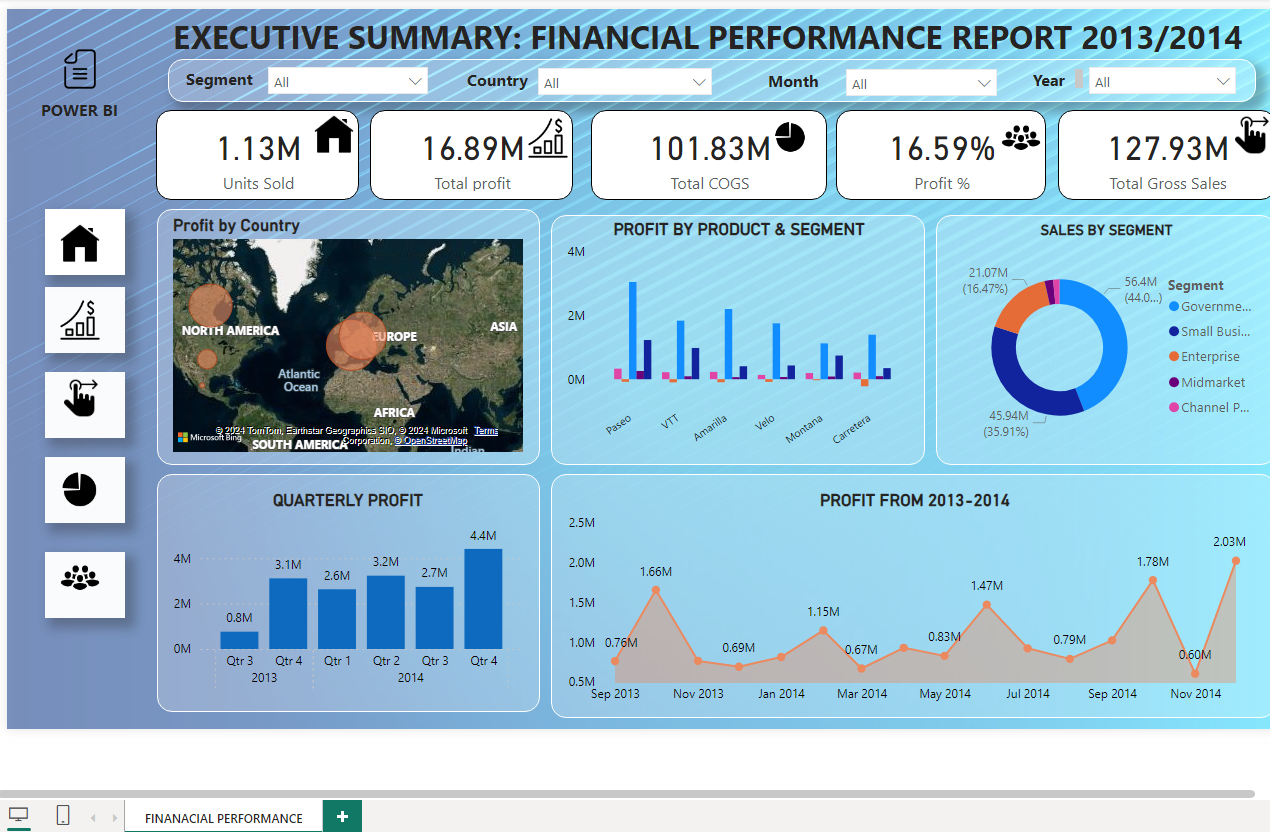

The page's visual inventory and layout, read from the dashboard file:
{"tool":"powerbi","page":{"name":"FINANACIAL PERFORMANCE","canvas":[1280,720],"ordinal":0},"visuals":[{"type":"shape","box":[37.5,542.7,80,66.2],"z":0},{"type":"shape","box":[37.5,200.2,80,66.2],"z":1000},{"type":"shape","box":[37.5,277.7,80,66.2],"z":2000},{"type":"shape","box":[37.5,362.7,80,66.2],"z":3000},{"type":"shape","box":[37.5,447.7,80,66.2],"z":4000},{"type":"image","box":[48,364,50,50],"z":5000},{"type":"image","box":[48,456.5,50,50],"z":6000},{"type":"image","box":[48,544,50,50],"z":7000},{"type":"image","box":[48,286.5,50,50],"z":8000},{"type":"image","box":[47.5,35,50,50],"z":9000},{"type":"image","box":[48,210.2,50,50],"z":10000},{"type":"textbox","box":[28.8,85,101.2,31.2],"z":11000},{"type":"textbox","box":[161.2,0,1107.5,60],"z":12000},{"type":"shape","box":[161.2,50,1087.5,42.5],"z":13000},{"type":"shape","box":[150,200,382.5,256.2],"z":14000},{"type":"shape","box":[150,465,382.5,237.5],"z":15000},{"type":"shape","box":[928.8,206.2,340,250],"z":16000},{"type":"shape","box":[543.8,206.2,373.8,250],"z":17000},{"type":"shape","box":[543.8,465,725,243.8],"z":18000},{"type":"slicer","fields":{"Values":["financials.Segment"]},"box":[251.2,47.5,180,43.8],"z":19000},{"type":"slicer","fields":{"Values":["financials.Country"]},"box":[521.2,48.8,193.8,45],"z":20000},{"type":"slicer","fields":{"Values":["financials.Date.Variation.Date Hierarchy.Month"]},"box":[829,50,171,43],"z":21000},{"type":"slicer","fields":{"Values":["financials.Date.Variation.Date Hierarchy.Year"]},"box":[1072,48,167,44],"z":22000},{"type":"textbox","box":[756.2,56.2,88.8,31.2],"z":23000},{"type":"textbox","box":[1021,55,60,30],"z":24000},{"type":"textbox","box":[455,55,88.8,31.2],"z":25000},{"type":"textbox","box":[173.8,53.8,88.8,31.2],"z":26000},{"type":"card","fields":{"Values":["Measures Table.Total profit"]},"box":[362.5,101.2,203.8,90],"z":27000},{"type":"card","fields":{"Values":["Measures Table.Total COGS"]},"box":[583.8,101.2,236.2,90],"z":28000},{"type":"card","fields":{"Values":["Measures Table.Profit %"]},"box":[828.8,101.2,210,90],"z":29000},{"type":"card","fields":{"Values":["Measures Table.Total Gross Sales"]},"box":[1051.2,101.2,217.5,90],"z":30000},{"type":"clusteredColumnChart","title":"QUARTERLY PROFIT","fields":{"Category":["financials.Date.Variation.Date Hierarchy.Year","financials.Date.Variation.Date Hierarchy.Quarter"],"Y":["Measures Table.Total profit"]},"box":[161.2,481.2,360,210],"z":31000},{"type":"areaChart","title":"PROFIT FROM 2013-2014","fields":{"Category":["financials.Date.Variation.Date Hierarchy.Year","financials.Date.Variation.Date Hierarchy.Month"],"Y":["Measures Table.Total profit"]},"box":[556.2,481.2,703.8,221.2],"z":32000},{"type":"donutChart","title":"SALES BY SEGMENT","fields":{"Y":["Measures Table.Total Gross Sales"],"Category":["financials.Segment"]},"box":[938.8,212.5,321.2,235],"z":33000},{"type":"clusteredColumnChart","title":"PROFIT BY PRODUCT & SEGMENT","fields":{"Y":["Measures Table.Total profit"],"Category":["financials.Product"],"Series":["financials.Segment"]},"box":[555,210,353.8,237.5],"z":34000},{"type":"map","title":"Profit by Country","fields":{"Category":["financials.Country"],"Size":["Measures Table.Total profit"]},"box":[161.2,206.2,360,241.2],"z":35000},{"type":"image","box":[516.2,103.8,50,50],"z":36000},{"type":"image","box":[746.2,106.2,73.8,45],"z":37000},{"type":"image","box":[1218.8,101.2,50,50],"z":38000},{"type":"image","box":[988.8,103.8,50,50],"z":39000},{"type":"card","fields":{"Values":["Measures Table.Units Sold"]},"box":[149,101,203,90],"z":40000},{"type":"image","box":[302,101,50,50],"z":41000}]}

Visuals, with their boxes on the page's 1280x720 design canvas (x1, y1, x2, y2). These are canvas units, not pixel positions in the 1270x832 screenshot, which may show the page scaled, cropped or inside an application window:
shape: {"left": 38, "top": 543, "right": 118, "bottom": 609}
shape: {"left": 38, "top": 200, "right": 118, "bottom": 266}
shape: {"left": 38, "top": 278, "right": 118, "bottom": 344}
shape: {"left": 38, "top": 363, "right": 118, "bottom": 429}
shape: {"left": 38, "top": 448, "right": 118, "bottom": 514}
image: {"left": 48, "top": 364, "right": 98, "bottom": 414}
image: {"left": 48, "top": 456, "right": 98, "bottom": 506}
image: {"left": 48, "top": 544, "right": 98, "bottom": 594}
image: {"left": 48, "top": 286, "right": 98, "bottom": 336}
image: {"left": 48, "top": 35, "right": 98, "bottom": 85}
image: {"left": 48, "top": 210, "right": 98, "bottom": 260}
textbox: {"left": 29, "top": 85, "right": 130, "bottom": 116}
textbox: {"left": 161, "top": 0, "right": 1269, "bottom": 60}
shape: {"left": 161, "top": 50, "right": 1249, "bottom": 92}
shape: {"left": 150, "top": 200, "right": 532, "bottom": 456}
shape: {"left": 150, "top": 465, "right": 532, "bottom": 702}
shape: {"left": 929, "top": 206, "right": 1269, "bottom": 456}
shape: {"left": 544, "top": 206, "right": 918, "bottom": 456}
shape: {"left": 544, "top": 465, "right": 1269, "bottom": 709}
slicer - financials.Segment: {"left": 251, "top": 48, "right": 431, "bottom": 91}
slicer - financials.Country: {"left": 521, "top": 49, "right": 715, "bottom": 94}
slicer - financials.Date.Variation.Date Hierarchy.Month: {"left": 829, "top": 50, "right": 1000, "bottom": 93}
slicer - financials.Date.Variation.Date Hierarchy.Year: {"left": 1072, "top": 48, "right": 1239, "bottom": 92}
textbox: {"left": 756, "top": 56, "right": 845, "bottom": 87}
textbox: {"left": 1021, "top": 55, "right": 1081, "bottom": 85}
textbox: {"left": 455, "top": 55, "right": 544, "bottom": 86}
textbox: {"left": 174, "top": 54, "right": 263, "bottom": 85}
card - Measures Table.Total profit: {"left": 362, "top": 101, "right": 566, "bottom": 191}
card - Measures Table.Total COGS: {"left": 584, "top": 101, "right": 820, "bottom": 191}
card - Measures Table.Profit %: {"left": 829, "top": 101, "right": 1039, "bottom": 191}
card - Measures Table.Total Gross Sales: {"left": 1051, "top": 101, "right": 1269, "bottom": 191}
"QUARTERLY PROFIT" clusteredColumnChart: {"left": 161, "top": 481, "right": 521, "bottom": 691}
"PROFIT FROM 2013-2014" areaChart: {"left": 556, "top": 481, "right": 1260, "bottom": 702}
"SALES BY SEGMENT" donutChart: {"left": 939, "top": 212, "right": 1260, "bottom": 448}
"PROFIT BY PRODUCT & SEGMENT" clusteredColumnChart: {"left": 555, "top": 210, "right": 909, "bottom": 448}
"Profit by Country" map: {"left": 161, "top": 206, "right": 521, "bottom": 447}
image: {"left": 516, "top": 104, "right": 566, "bottom": 154}
image: {"left": 746, "top": 106, "right": 820, "bottom": 151}
image: {"left": 1219, "top": 101, "right": 1269, "bottom": 151}
image: {"left": 989, "top": 104, "right": 1039, "bottom": 154}
card - Measures Table.Units Sold: {"left": 149, "top": 101, "right": 352, "bottom": 191}
image: {"left": 302, "top": 101, "right": 352, "bottom": 151}
